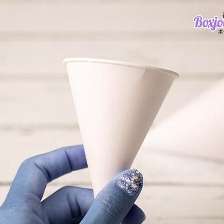paper_cup: (56, 51, 183, 211)
